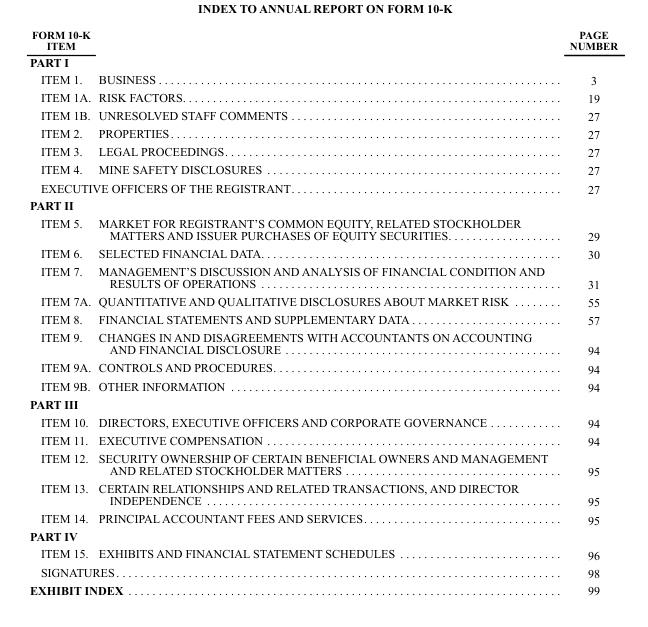table: (29, 28, 617, 596)
table column: (94, 28, 558, 596), (29, 28, 94, 596), (558, 28, 617, 596)
table column header: (29, 28, 617, 53)
table projected row header: (29, 53, 617, 70), (29, 196, 617, 213), (29, 395, 617, 412), (29, 527, 617, 544)
table row: (29, 213, 617, 244), (29, 262, 617, 292), (29, 328, 617, 358), (29, 449, 617, 479), (29, 479, 617, 509), (29, 28, 617, 53), (29, 376, 617, 395), (29, 412, 617, 431), (29, 562, 617, 581), (29, 70, 617, 88), (29, 88, 617, 106), (29, 106, 617, 124), (29, 124, 617, 142), (29, 142, 617, 160), (29, 160, 617, 178), (29, 178, 617, 196), (29, 244, 617, 262), (29, 292, 617, 310), (29, 310, 617, 328), (29, 358, 617, 376), (29, 431, 617, 449), (29, 509, 617, 527), (29, 544, 617, 562), (29, 53, 617, 70), (29, 196, 617, 213), (29, 395, 617, 412), (29, 527, 617, 544), (29, 581, 617, 596)
table spanning cell: (29, 562, 558, 581), (29, 178, 558, 196), (29, 581, 558, 596)
